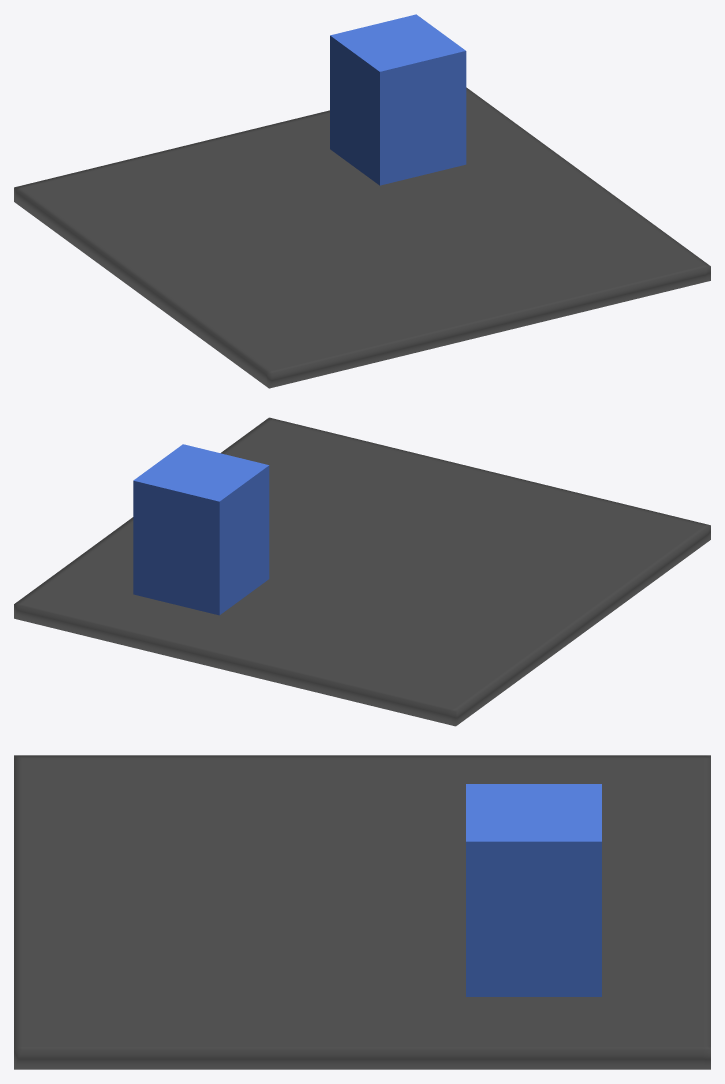
The model's file is native_baseline.glb.
3 renders of one model, top to bottom at view 1: azimuth 30°, elevation 25°; view 2: azimuth 150°, elevation 25°; view 3: azimuth 270°, elevation 25°, orthographic. The views are drawn at different scales.
Size of the model in its own units: 64 by 17.75 by 64.
